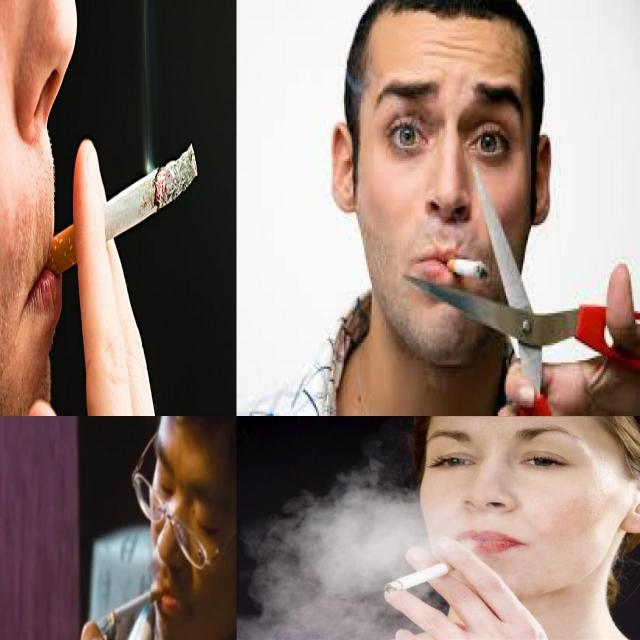cigarette: (45, 141, 199, 279), (108, 575, 168, 630), (378, 558, 462, 594), (446, 259, 490, 281)
